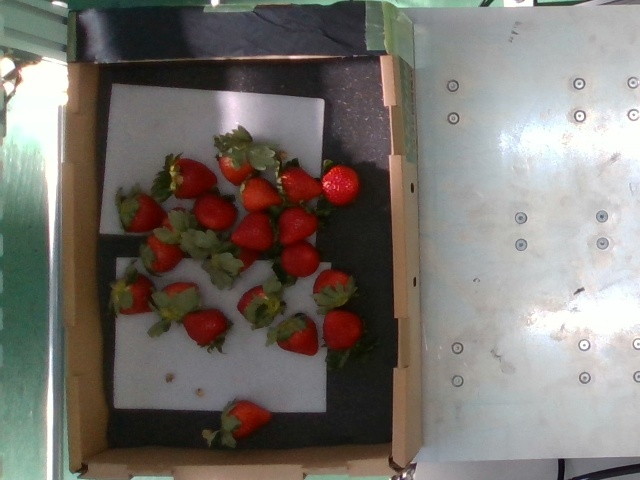strawberry: (120, 193, 169, 234), (170, 158, 218, 199), (275, 313, 320, 356), (221, 401, 272, 438), (115, 276, 163, 315), (187, 205, 224, 254), (181, 310, 229, 345), (233, 212, 274, 252), (278, 168, 322, 205), (313, 269, 353, 309), (216, 240, 258, 277), (324, 164, 359, 208), (146, 233, 185, 272), (280, 206, 318, 245), (159, 283, 199, 320), (327, 308, 361, 351), (239, 177, 281, 210), (280, 242, 318, 278), (219, 152, 259, 186), (195, 197, 235, 230), (237, 287, 274, 321), (165, 205, 189, 238)
